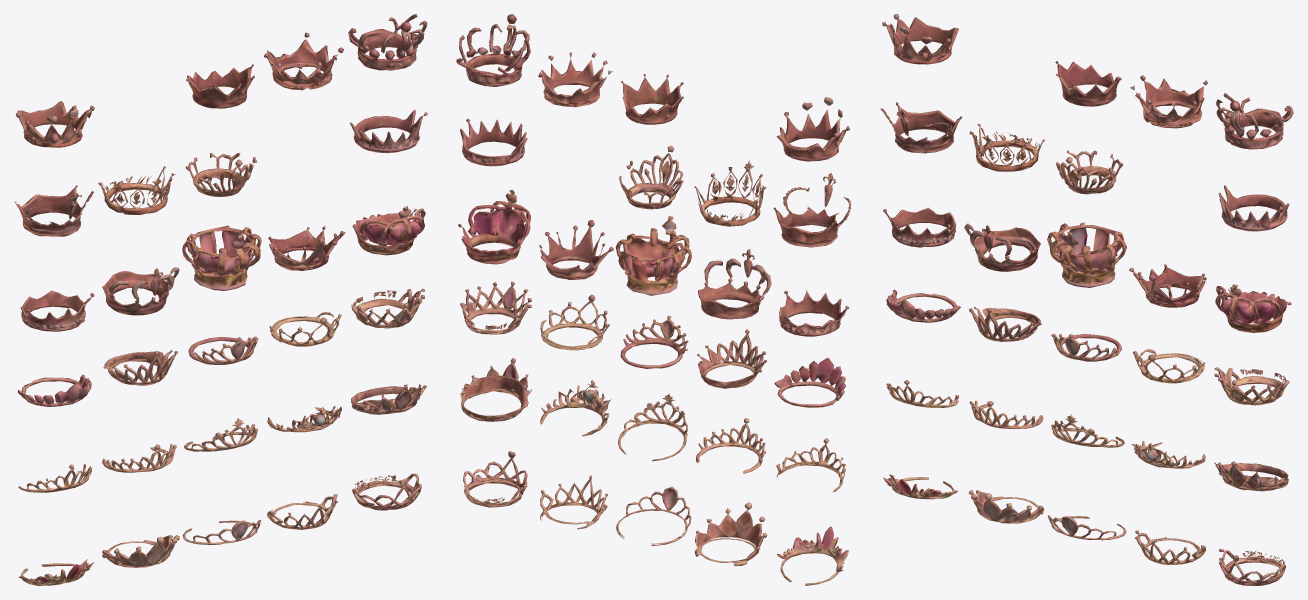
3 renders of one model, left to right at view 1: azimuth 30°, elevation 25°; view 2: azimuth 150°, elevation 25°; view 3: azimuth 330°, elevation 25°, orthographic. The views are drawn at different scales.
Visible parts, largest first — view 1: Mesh 25, Mesh 53, Mesh 49, Mesh 42, Mesh 10, Mesh 21, Mesh 8, Mesh 26, Mesh 33, Mesh 46, Mesh 4, Mesh 24 (+16 smaller); view 2: Mesh 25, Mesh 49, Mesh 53, Mesh 21, Mesh 8, Mesh 10, Mesh 42, Mesh 33, Mesh 43, Mesh 26, Mesh 44, Mesh 32 (+16 smaller); view 3: Mesh 25, Mesh 53, Mesh 49, Mesh 10, Mesh 42, Mesh 21, Mesh 8, Mesh 26, Mesh 46, Mesh 4, Mesh 33, Mesh 24 (+16 smaller).
Part boxes in pixels (box(x1,y1,x2,y2)): Mesh 25: box(182, 225, 261, 290); Mesh 53: box(348, 14, 427, 70); Mesh 49: box(352, 206, 425, 255); Mesh 42: box(264, 32, 343, 90); Mesh 10: box(16, 101, 94, 147); Mesh 21: box(102, 267, 179, 315); Mesh 8: box(14, 185, 93, 236); Mesh 26: box(186, 64, 254, 108); Mesh 33: box(268, 226, 344, 270); Mesh 46: box(350, 109, 427, 153); Mesh 4: box(20, 290, 94, 331); Mesh 24: box(98, 166, 175, 214); Mesh 25: box(615, 216, 691, 295); Mesh 49: box(458, 189, 530, 264); Mesh 53: box(456, 14, 530, 86); Mesh 21: box(698, 249, 771, 319); Mesh 8: box(773, 173, 851, 247); Mesh 10: box(776, 97, 849, 161); Mesh 42: box(538, 52, 612, 107); Mesh 33: box(539, 220, 613, 279); Mesh 43: box(460, 358, 531, 421); Mesh 26: box(621, 74, 683, 124); Mesh 44: box(460, 281, 531, 334); Mesh 32: box(619, 145, 683, 209); Mesh 25: box(1047, 222, 1126, 287); Mesh 53: box(1215, 93, 1293, 149); Mesh 49: box(1215, 284, 1291, 332); Mesh 10: box(882, 14, 958, 64); Mesh 42: box(1130, 75, 1207, 128); Mesh 21: box(964, 223, 1040, 271); Mesh 8: box(880, 102, 962, 153); Mesh 26: box(1055, 61, 1121, 106); Mesh 46: box(1218, 185, 1289, 231); Mesh 4: box(883, 207, 956, 247); Mesh 33: box(1129, 264, 1206, 307); Mesh 24: box(969, 124, 1044, 171).
Size of the model in its own units: 1.63 by 1.9 by 0.2876.
Materials: 28 (28 with a texture image).
